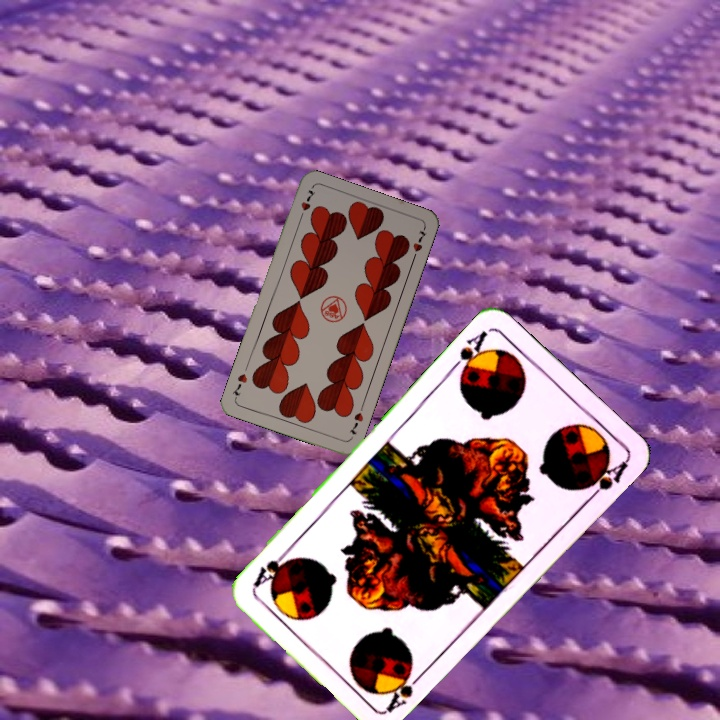H7: (295, 186, 318, 223), (345, 408, 366, 437)
SA: (445, 326, 491, 382), (382, 665, 429, 714)
